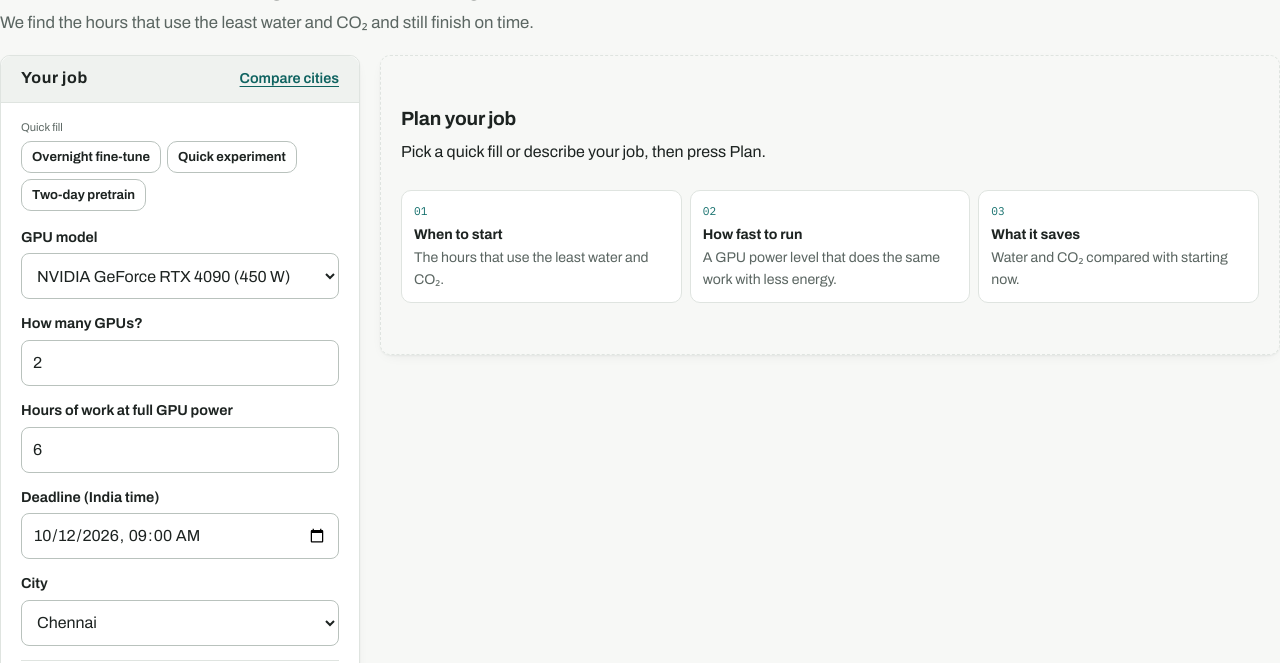
PlanPage on a phone › keeps what was typed in the form after planning, under "Change job"
This screenshot has width=1280, height=663.
Replace the text in the number field labelled "How many GPUs?" with "8". click: (180, 363)
box: [21,340,339,386]
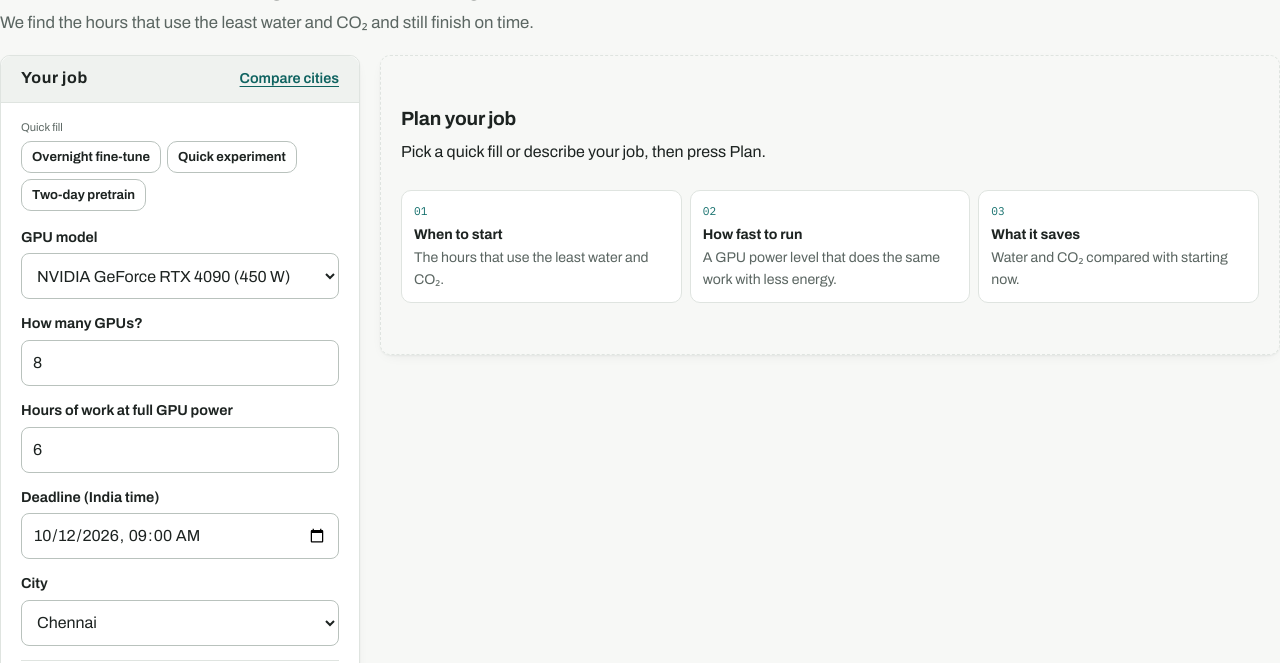
Select "Mumbai" in the dropdown labelled "City". click: (180, 623)
box: [21,600,339,646]
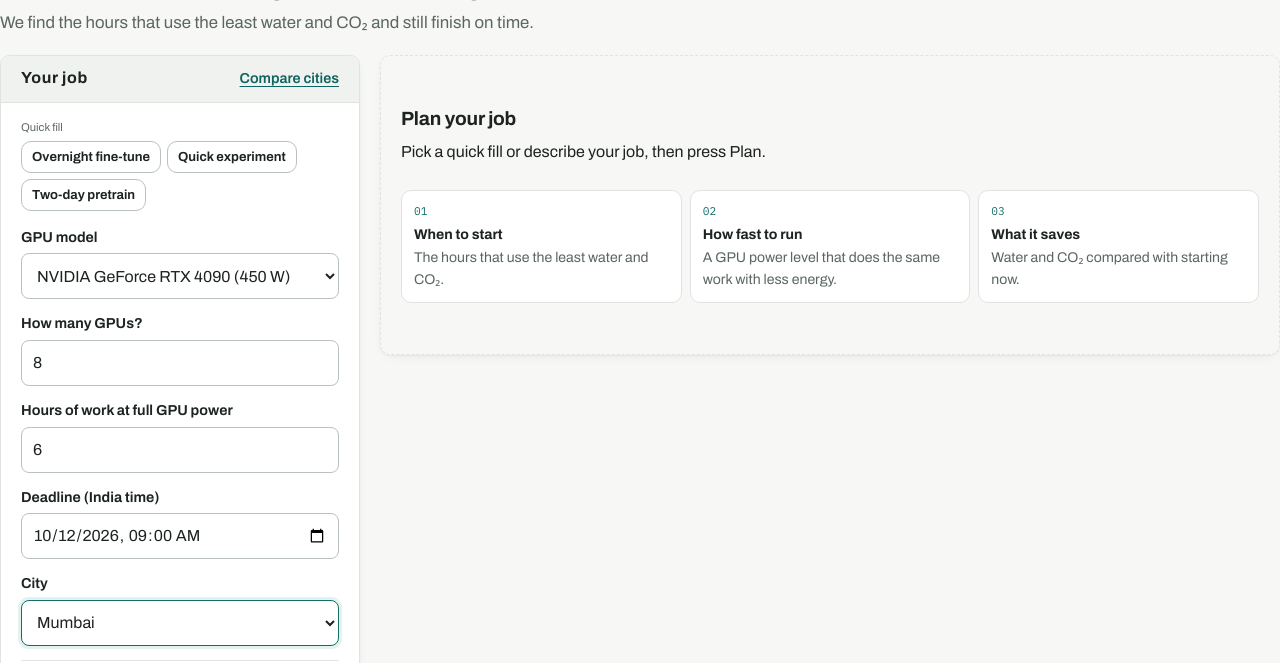
Replace the text in the field labelled "Deadline (India time)" with "2030-01-05T17:30". click: (180, 536)
box: [21,513,339,559]
(page scrolled)
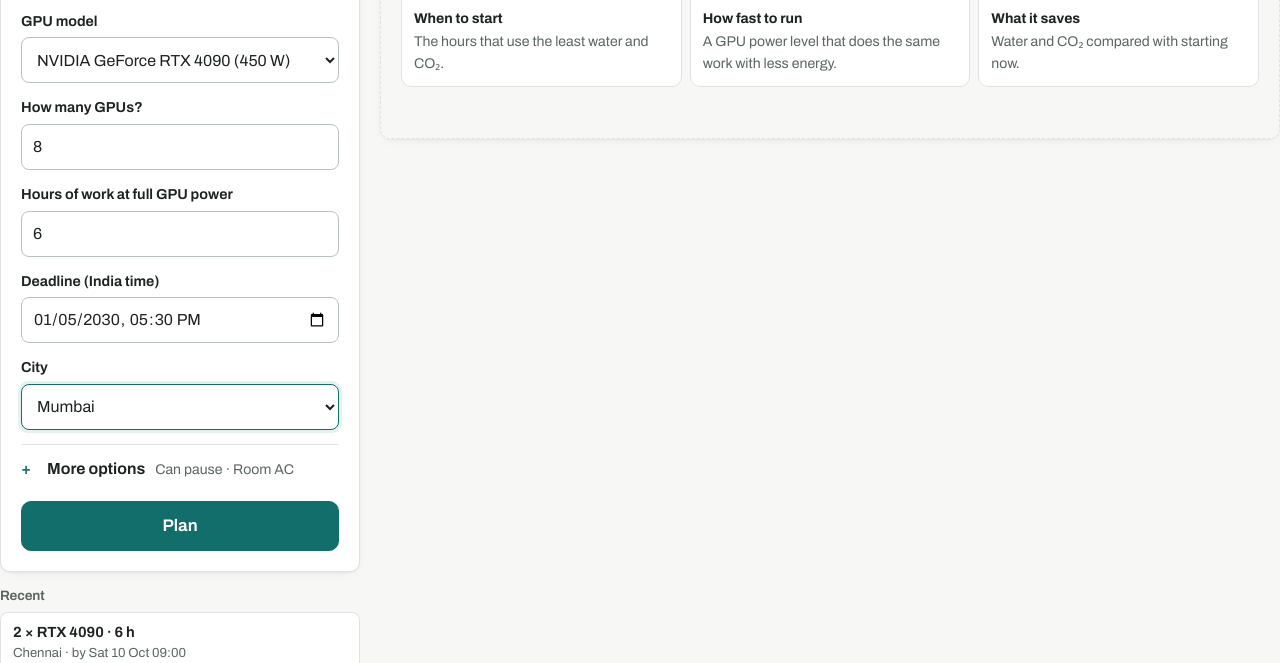
Click the button "Plan". click: (180, 526)
box: [21,501,339,551]
(page scrolled)
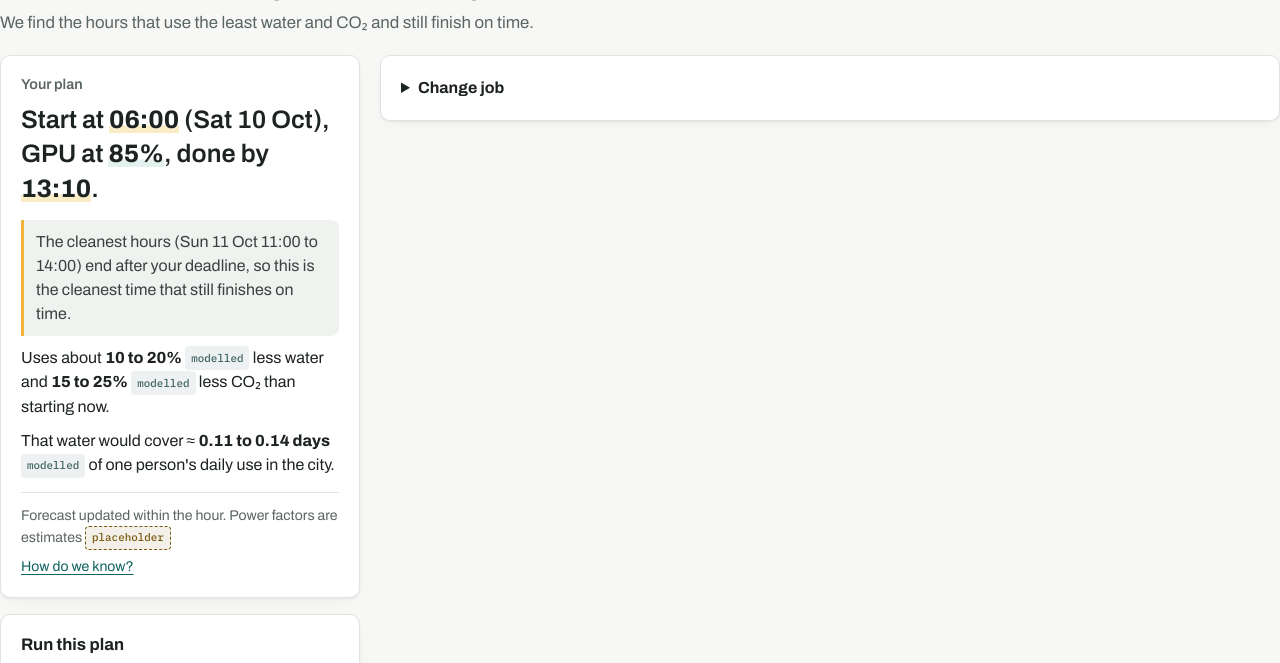
Result: the element "Your plan" is shown at [0,55,360,598]
Click the heading "Change job". click: (461, 88)
box: [418,79,504,96]
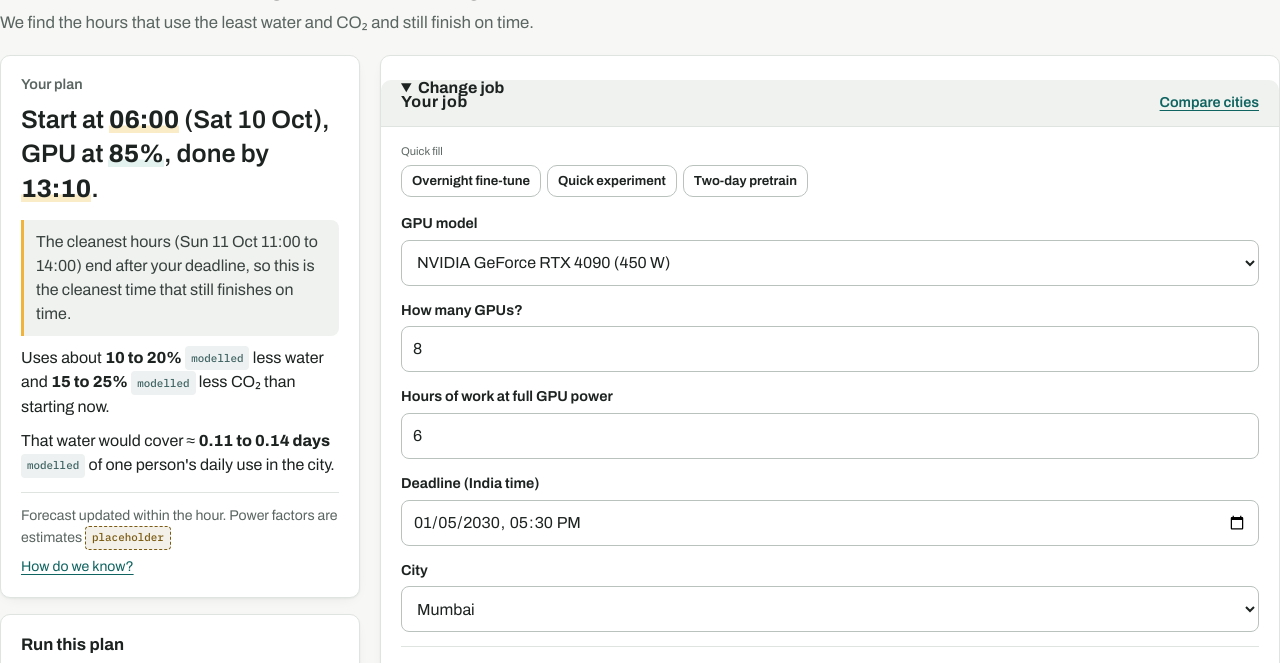
Result: the number field labelled "How many GPUs?" holds "8" at [401,326,1259,372]
Result: the dropdown labelled "City" shows "Mumbai" at [401,586,1259,632]
Result: the field labelled "Deadline (India time)" holds "2030-01-05T17:30" at [401,500,1259,546]
